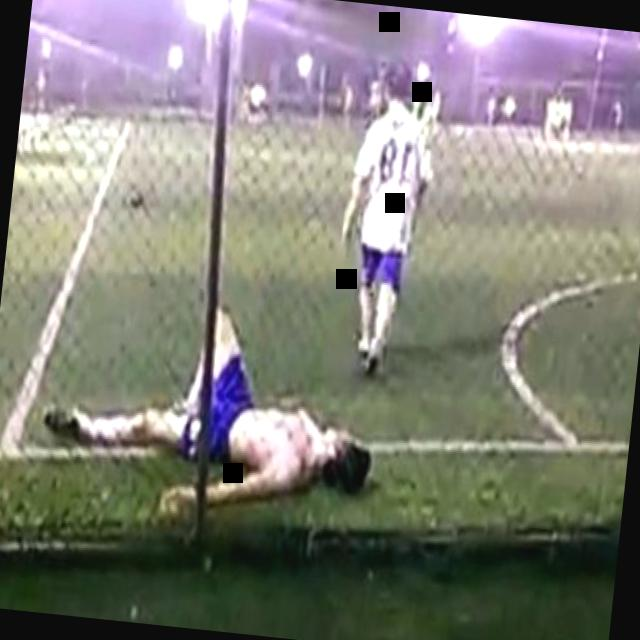Fall-Detected: (31, 286, 394, 544)
